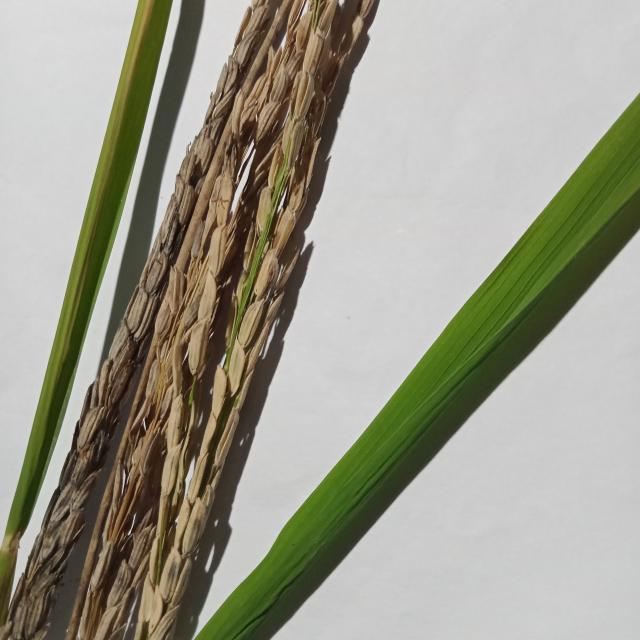Neck_Blast: (0, 0, 388, 640)
